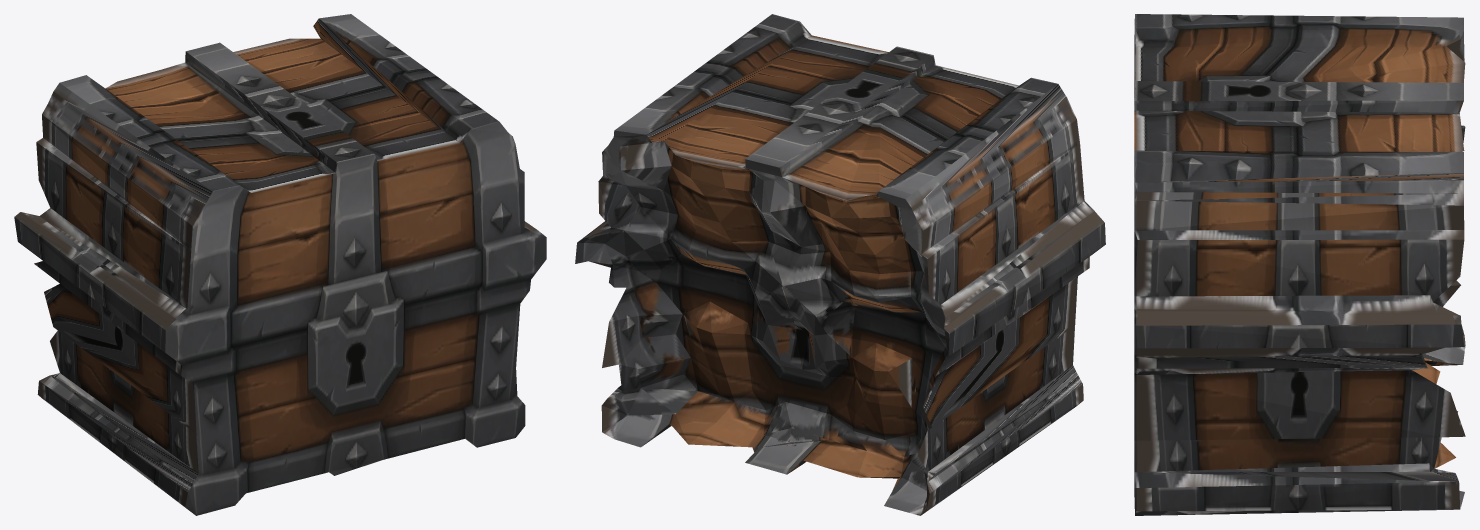
File: SM_Dungeon_Chest_A_LOD1.glb
3 renders of one model, left to right at view 1: azimuth 30°, elevation 25°; view 2: azimuth 150°, elevation 25°; view 3: azimuth 270°, elevation 25°, orthographic. The views are drawn at different scales.
Visible parts, largest first — view 1: SM_Dungeon_Chest_A_LOD1; view 2: SM_Dungeon_Chest_A_LOD1; view 3: SM_Dungeon_Chest_A_LOD1.
Boxes of the visible parts, x1,y1,x2,y2 form: SM_Dungeon_Chest_A_LOD1: (14, 14, 546, 515); SM_Dungeon_Chest_A_LOD1: (575, 14, 1105, 515); SM_Dungeon_Chest_A_LOD1: (1134, 14, 1465, 515).
Bounding box in the file's own units: 1 × 0.8044 × 0.7037.
Materials: 1 (1 with a texture image).
